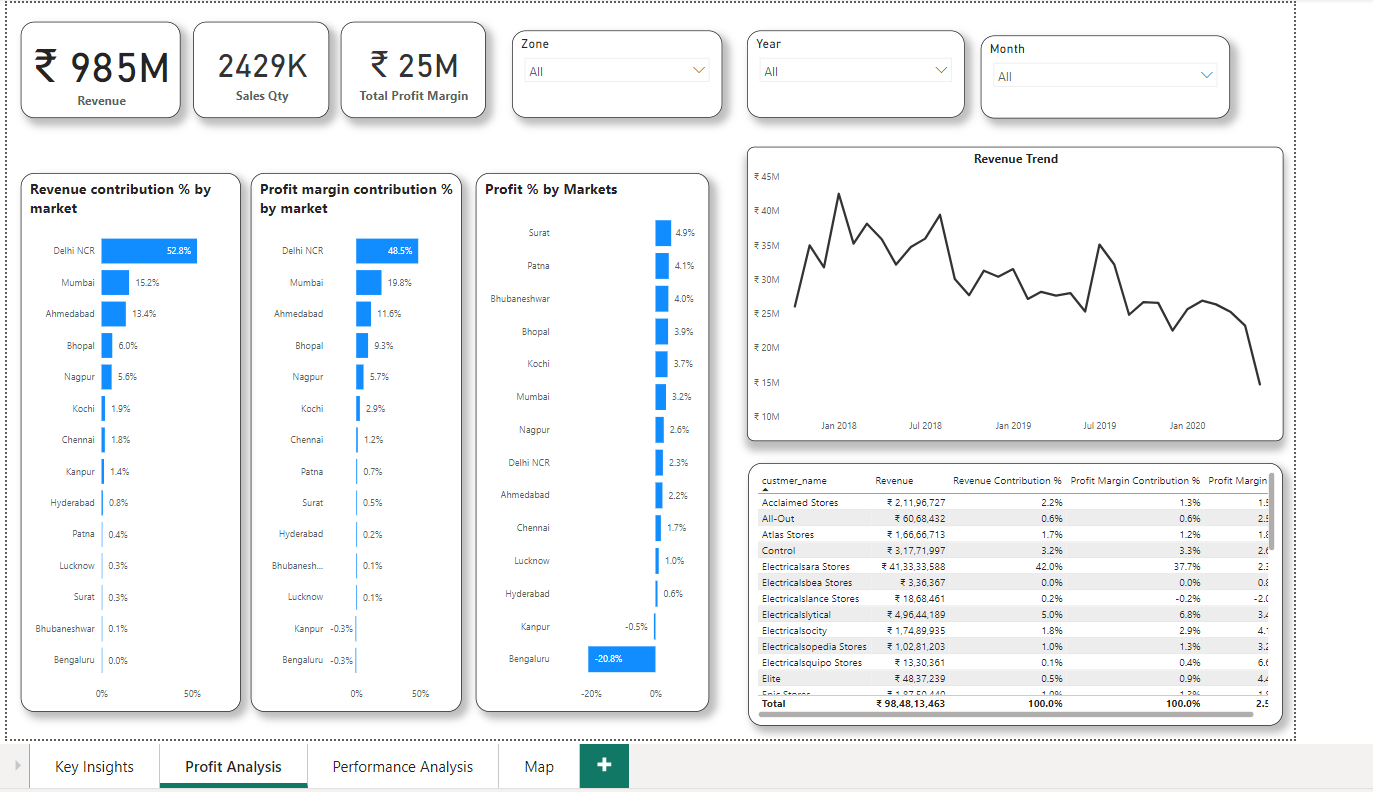

This screenshot's page, from the dashboard's own definition file:
{"tool":"powerbi","page":{"name":"Profit Analysis","canvas":[1689,966],"ordinal":1},"visuals":[{"type":"card","fields":{"Values":["BaseMeasures.Revenue"]},"box":[18,24.6,209.9,126.3],"z":0},{"type":"card","fields":{"Values":["BaseMeasures.Sales Qty"]},"box":[244.4,24.6,178.8,126.3],"z":1000},{"type":"slicer","title":"Zone","fields":{"Values":["sales markets.zone"]},"box":[662.5,36.2,276,114.2],"z":2000},{"type":"slicer","title":"Month","fields":{"Values":["sales date.month_name"]},"box":[1277.4,41.9,327.4,108.5],"z":3000},{"type":"lineChart","title":"Revenue Trend","fields":{"Y":["BaseMeasures.Revenue"],"Category":["sales date.cy_date"]},"box":[970.9,188.5,704.4,386.5],"z":4000},{"type":"barChart","title":"Profit %  by Markets","fields":{"Category":["sales markets.markets_name"],"Y":["BaseMeasures.Profit Margin %"]},"box":[615,223,306.7,706.9],"z":5000},{"type":"barChart","title":"Profit margin contribution % by market","fields":{"Category":["sales markets.markets_name"],"Y":["BaseMeasures.Profit Margin Contribution %"]},"box":[319.8,223,277.2,706.9],"z":6000},{"type":"tableEx","title":"Top 5 Customers","fields":{"Values":["sales customers.custmer_name","BaseMeasures.Revenue","BaseMeasures.Revenue Contribution %","BaseMeasures.Profit Margin Contribution %","BaseMeasures.Profit Margin %"]},"box":[972.6,603.5,701.9,344.4],"z":7000},{"type":"card","fields":{"Values":["BaseMeasures.Total Profit Margin"]},"box":[437.9,24.6,190.2,126.3],"z":8000},{"type":"barChart","title":"Revenue contribution % by market","fields":{"Category":["sales markets.markets_name"],"Y":["BaseMeasures.Revenue COntribution %"]},"box":[18,223,288.7,706.9],"z":9000},{"type":"slicer","title":"Year","fields":{"Values":["sales date.cy_date.Variation.Date Hierarchy.Year"]},"box":[970.9,36.2,285.6,114.2],"z":10000}]}

Visuals, with their boxes in screenshot pixels (x1, y1, x2, y2):
card - BaseMeasures.Revenue: <bbox>10, 15, 173, 113</bbox>
card - BaseMeasures.Sales Qty: <bbox>185, 15, 324, 113</bbox>
"Zone" slicer: <bbox>509, 24, 722, 113</bbox>
"Month" slicer: <bbox>984, 29, 1237, 113</bbox>
"Revenue Trend" lineChart: <bbox>747, 142, 1292, 441</bbox>
"Profit %  by Markets" barChart: <bbox>472, 169, 709, 715</bbox>
"Profit margin contribution % by market" barChart: <bbox>244, 169, 458, 715</bbox>
"Top 5 Customers" tableEx: <bbox>748, 463, 1291, 729</bbox>
card - BaseMeasures.Total Profit Margin: <bbox>335, 15, 482, 113</bbox>
"Revenue contribution % by market" barChart: <bbox>10, 169, 234, 715</bbox>
"Year" slicer: <bbox>747, 24, 968, 113</bbox>
